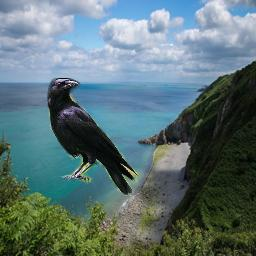Crow: (47, 78, 139, 196)
